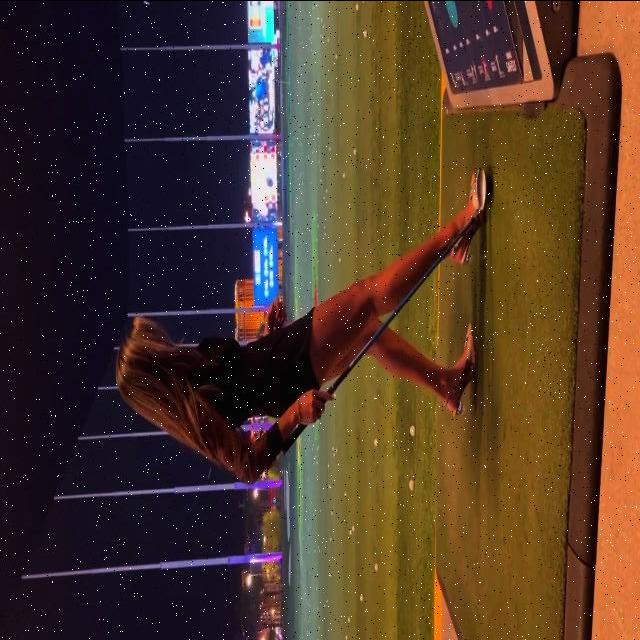golf club-handle: (281, 164, 491, 450)
golf club-head: (468, 175, 487, 220)
